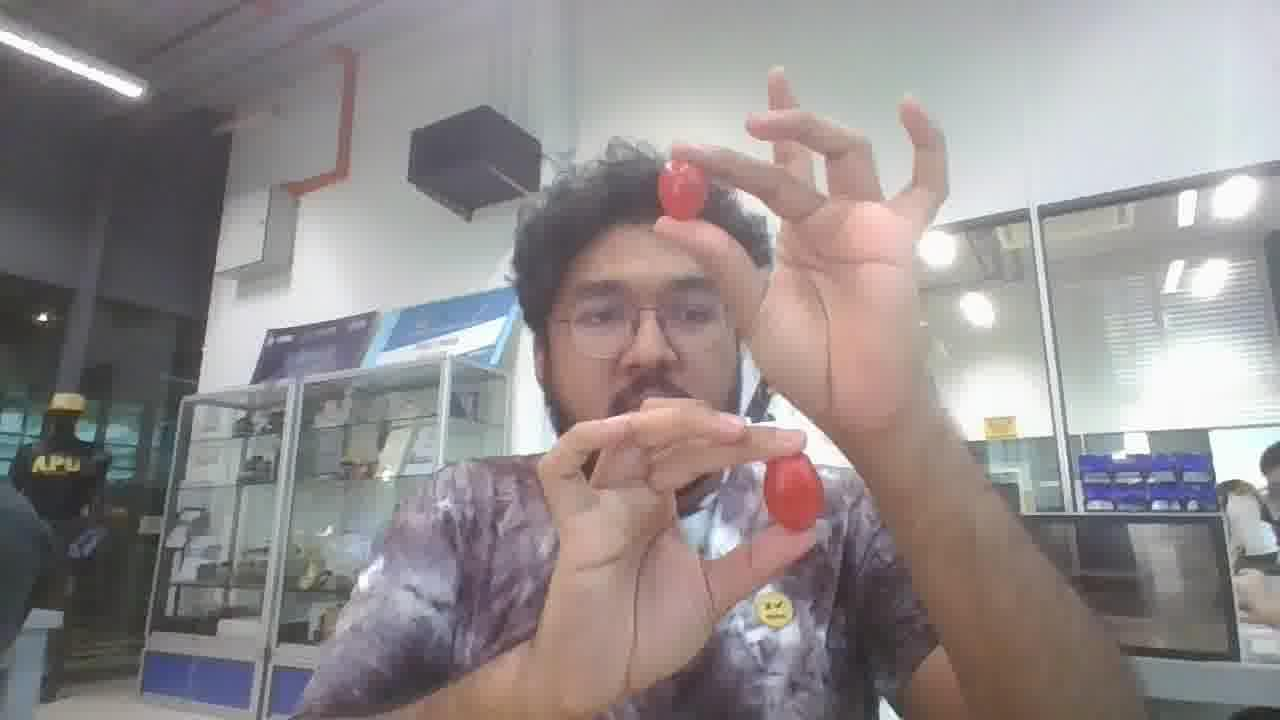red_cherry_tomato: (764, 453, 824, 530), (658, 160, 709, 220)
